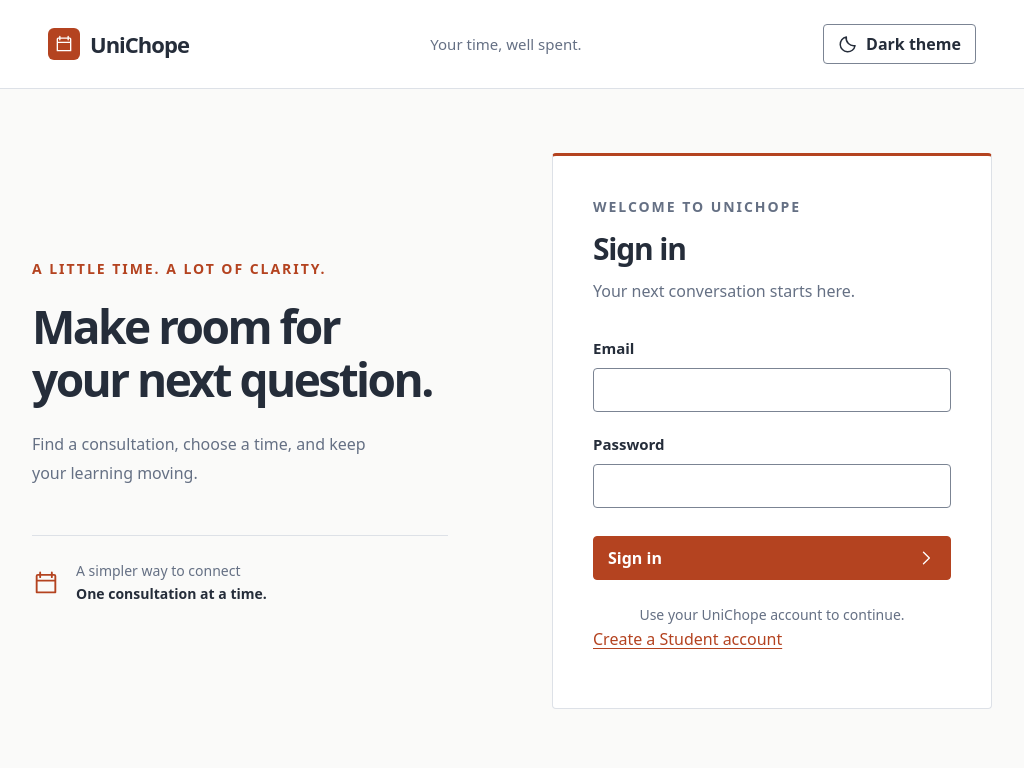
Test: AUTH-PW-01 forced Tutor changes the initial password before accessing the workspace
Step 1. Type "synthetic@example.test" into the field labelled "Email" → (772, 390), box left=593, top=368, right=951, bottom=412
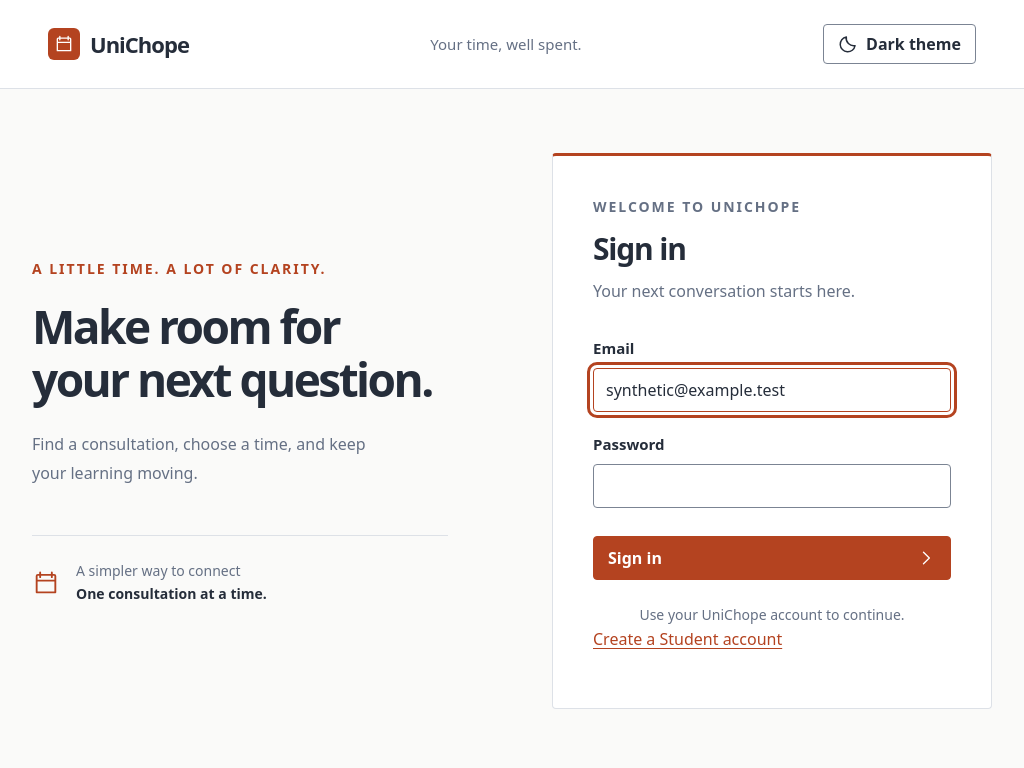
Step 2. Type "Synthetic-password-12" into the password field labelled "Password" → (772, 486), box left=593, top=464, right=951, bottom=508
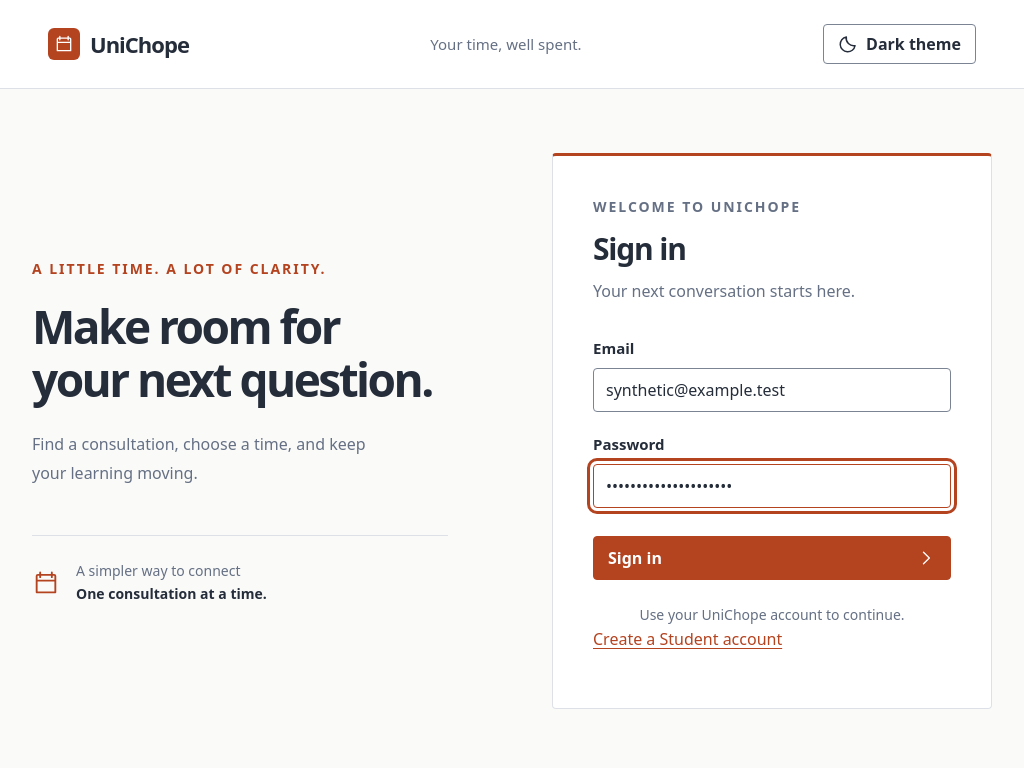
Step 3. Click the button "Sign in" → (635, 558), box left=593, top=536, right=951, bottom=580
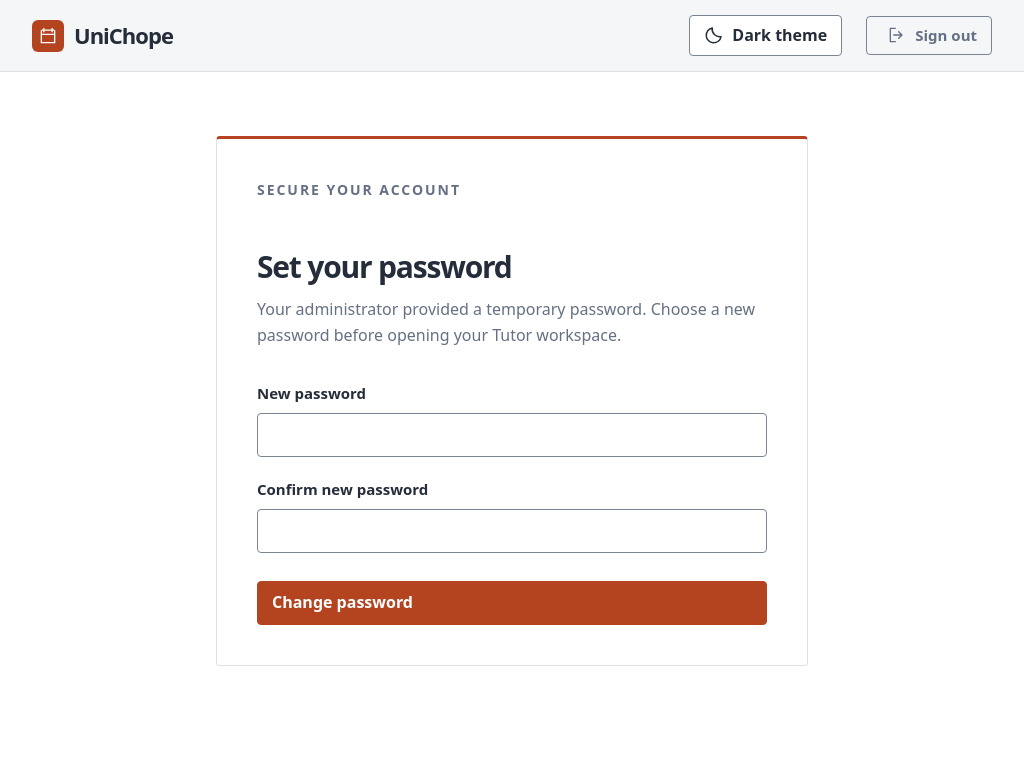
Now the heading "Set your password" is shown, box left=257, top=246, right=512, bottom=287
Step 4. Type "Tutor-new-pass-2026" into the password field labelled "New password" → (512, 435), box left=257, top=413, right=767, bottom=457
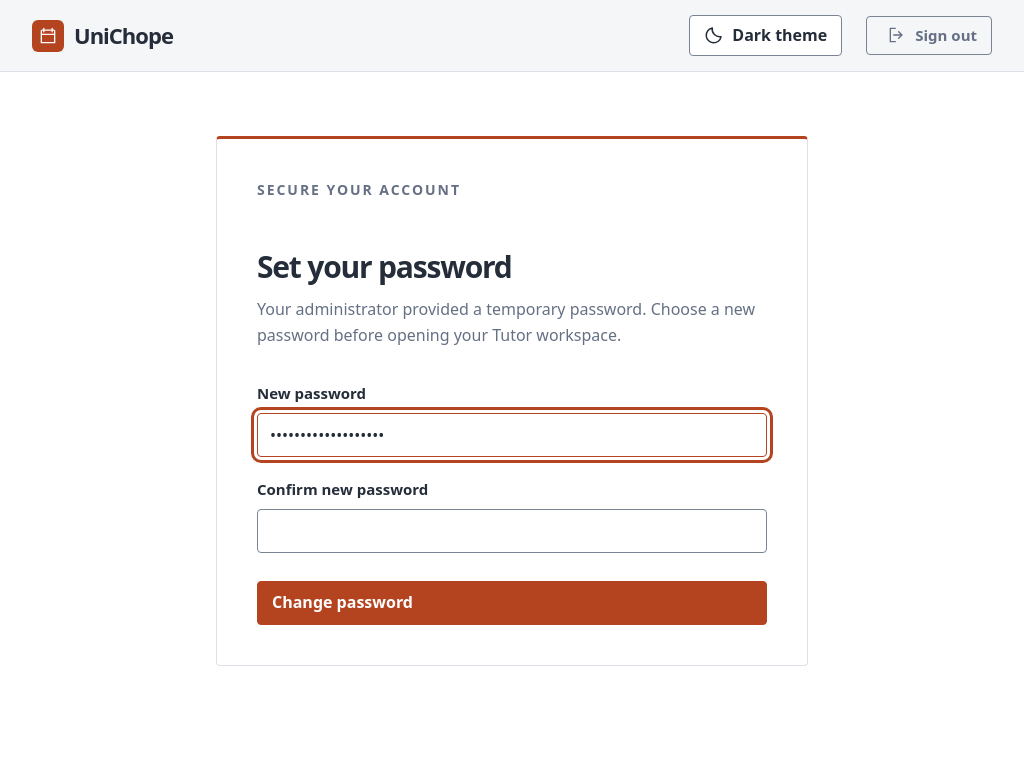
Step 5. Type "Tutor-new-pass-2026" into the password field labelled "Confirm new password" → (512, 531), box left=257, top=509, right=767, bottom=553
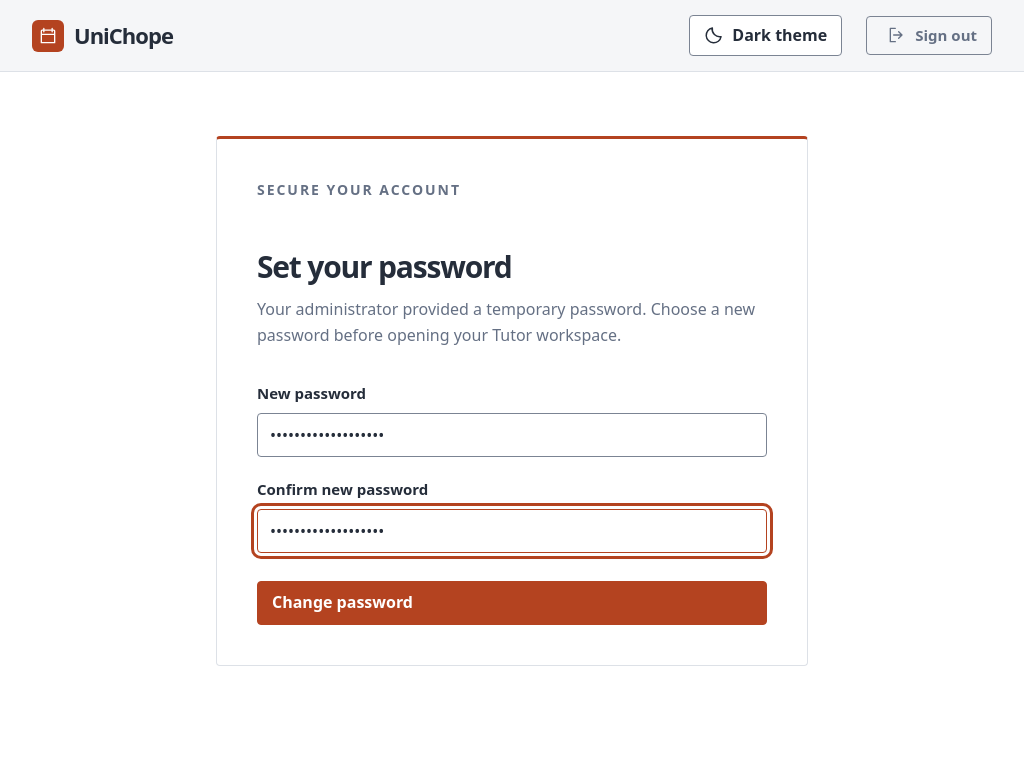
Step 6. Click the button "Change password" → (342, 602), box left=257, top=581, right=767, bottom=625
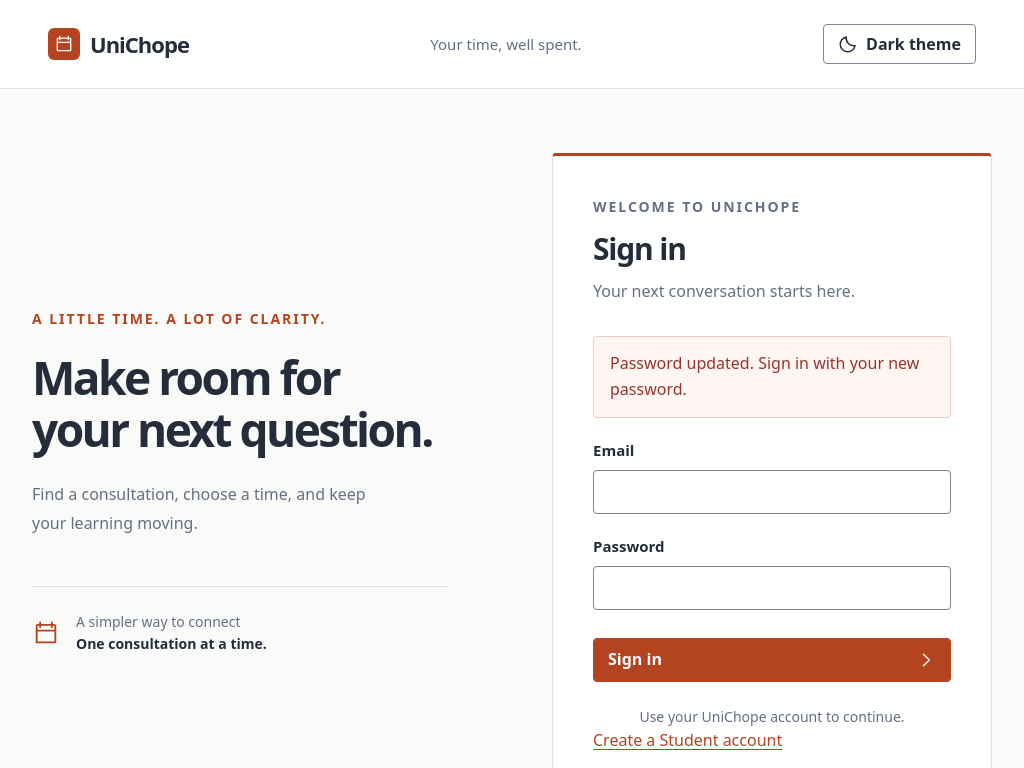
Now the heading "Sign in" is shown, box left=593, top=228, right=686, bottom=269
Now the message shows "Password updated", box left=610, top=352, right=919, bottom=400
